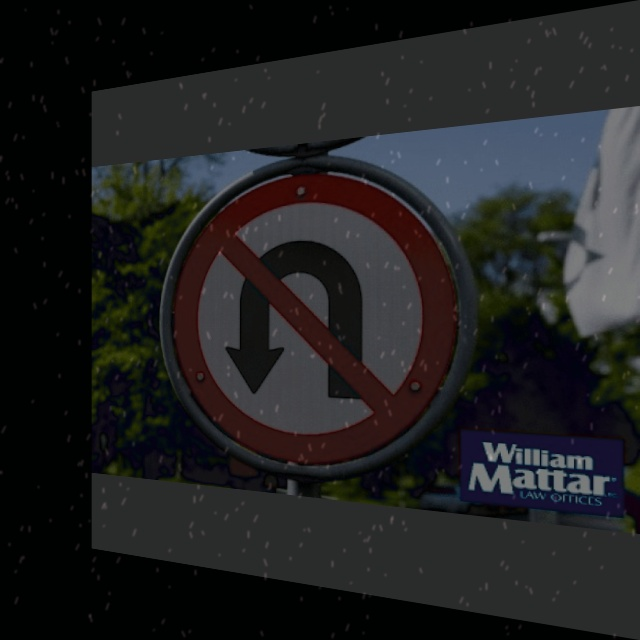U_Turn_Prohibited: (164, 147, 455, 462)
